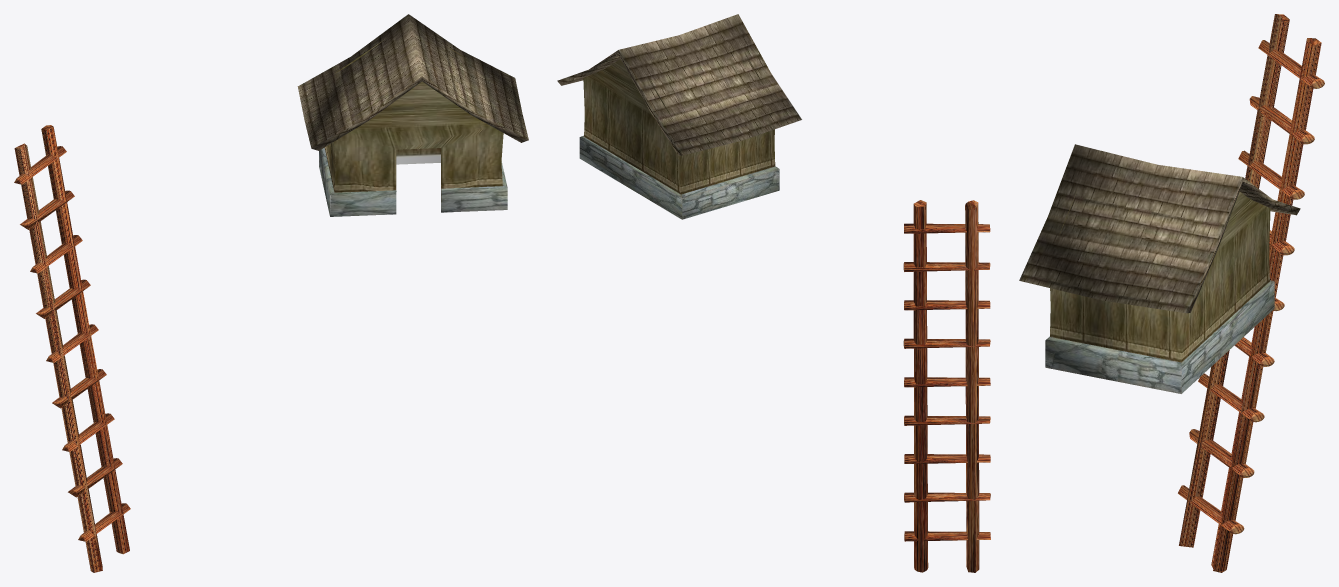
Rendered from lom_model4.fbx.
The picture shows the model from 3 angles, left to right: view 1: azimuth 30°, elevation 25°; view 2: azimuth 150°, elevation 25°; view 3: azimuth 270°, elevation 25°; orthographic projection. The views are drawn at different scales.
Parts seen in each view (by area): view 1: chatka4, zebrik4; view 2: chatka4, zebrik4; view 3: chatka4, zebrik4.
Boxes of the visible parts, x1,y1,x2,y2 form: chatka4: (297, 14, 528, 216); zebrik4: (14, 125, 130, 572); chatka4: (557, 14, 801, 219); zebrik4: (903, 200, 990, 572); chatka4: (1019, 144, 1300, 393); zebrik4: (1178, 14, 1324, 572).
Bounding box in the file's own units: 178 × 167 × 80.49.
Materials: 2 (2 with a texture image).
